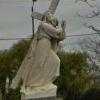Statue: (16, 10, 73, 97)
